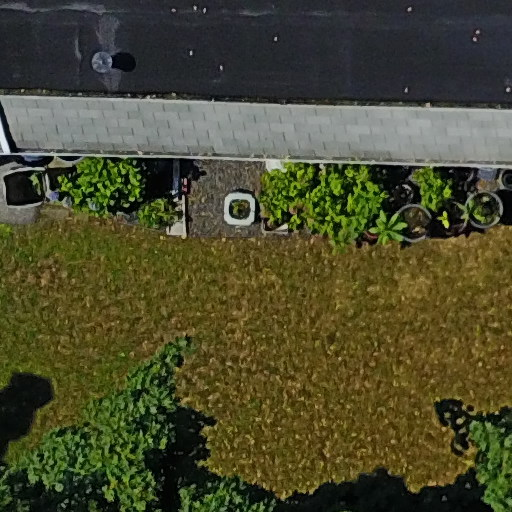garbage bin: (4, 167, 62, 210)
